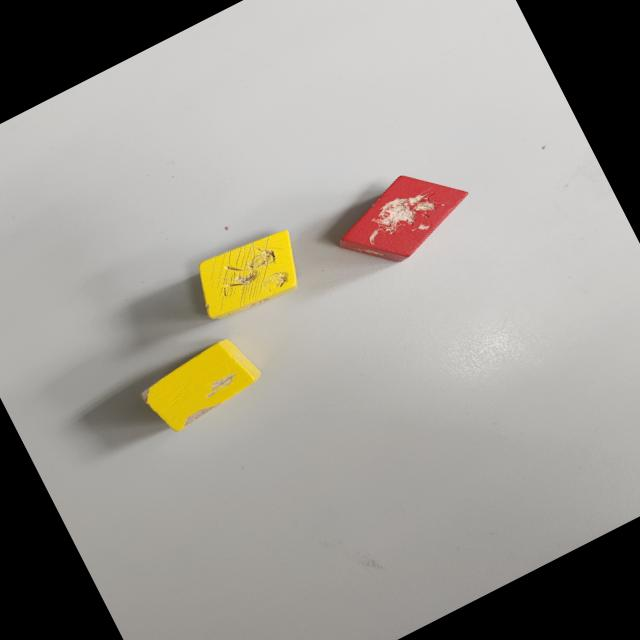broken: (322, 150, 483, 284), (131, 330, 269, 441), (183, 220, 315, 332)
